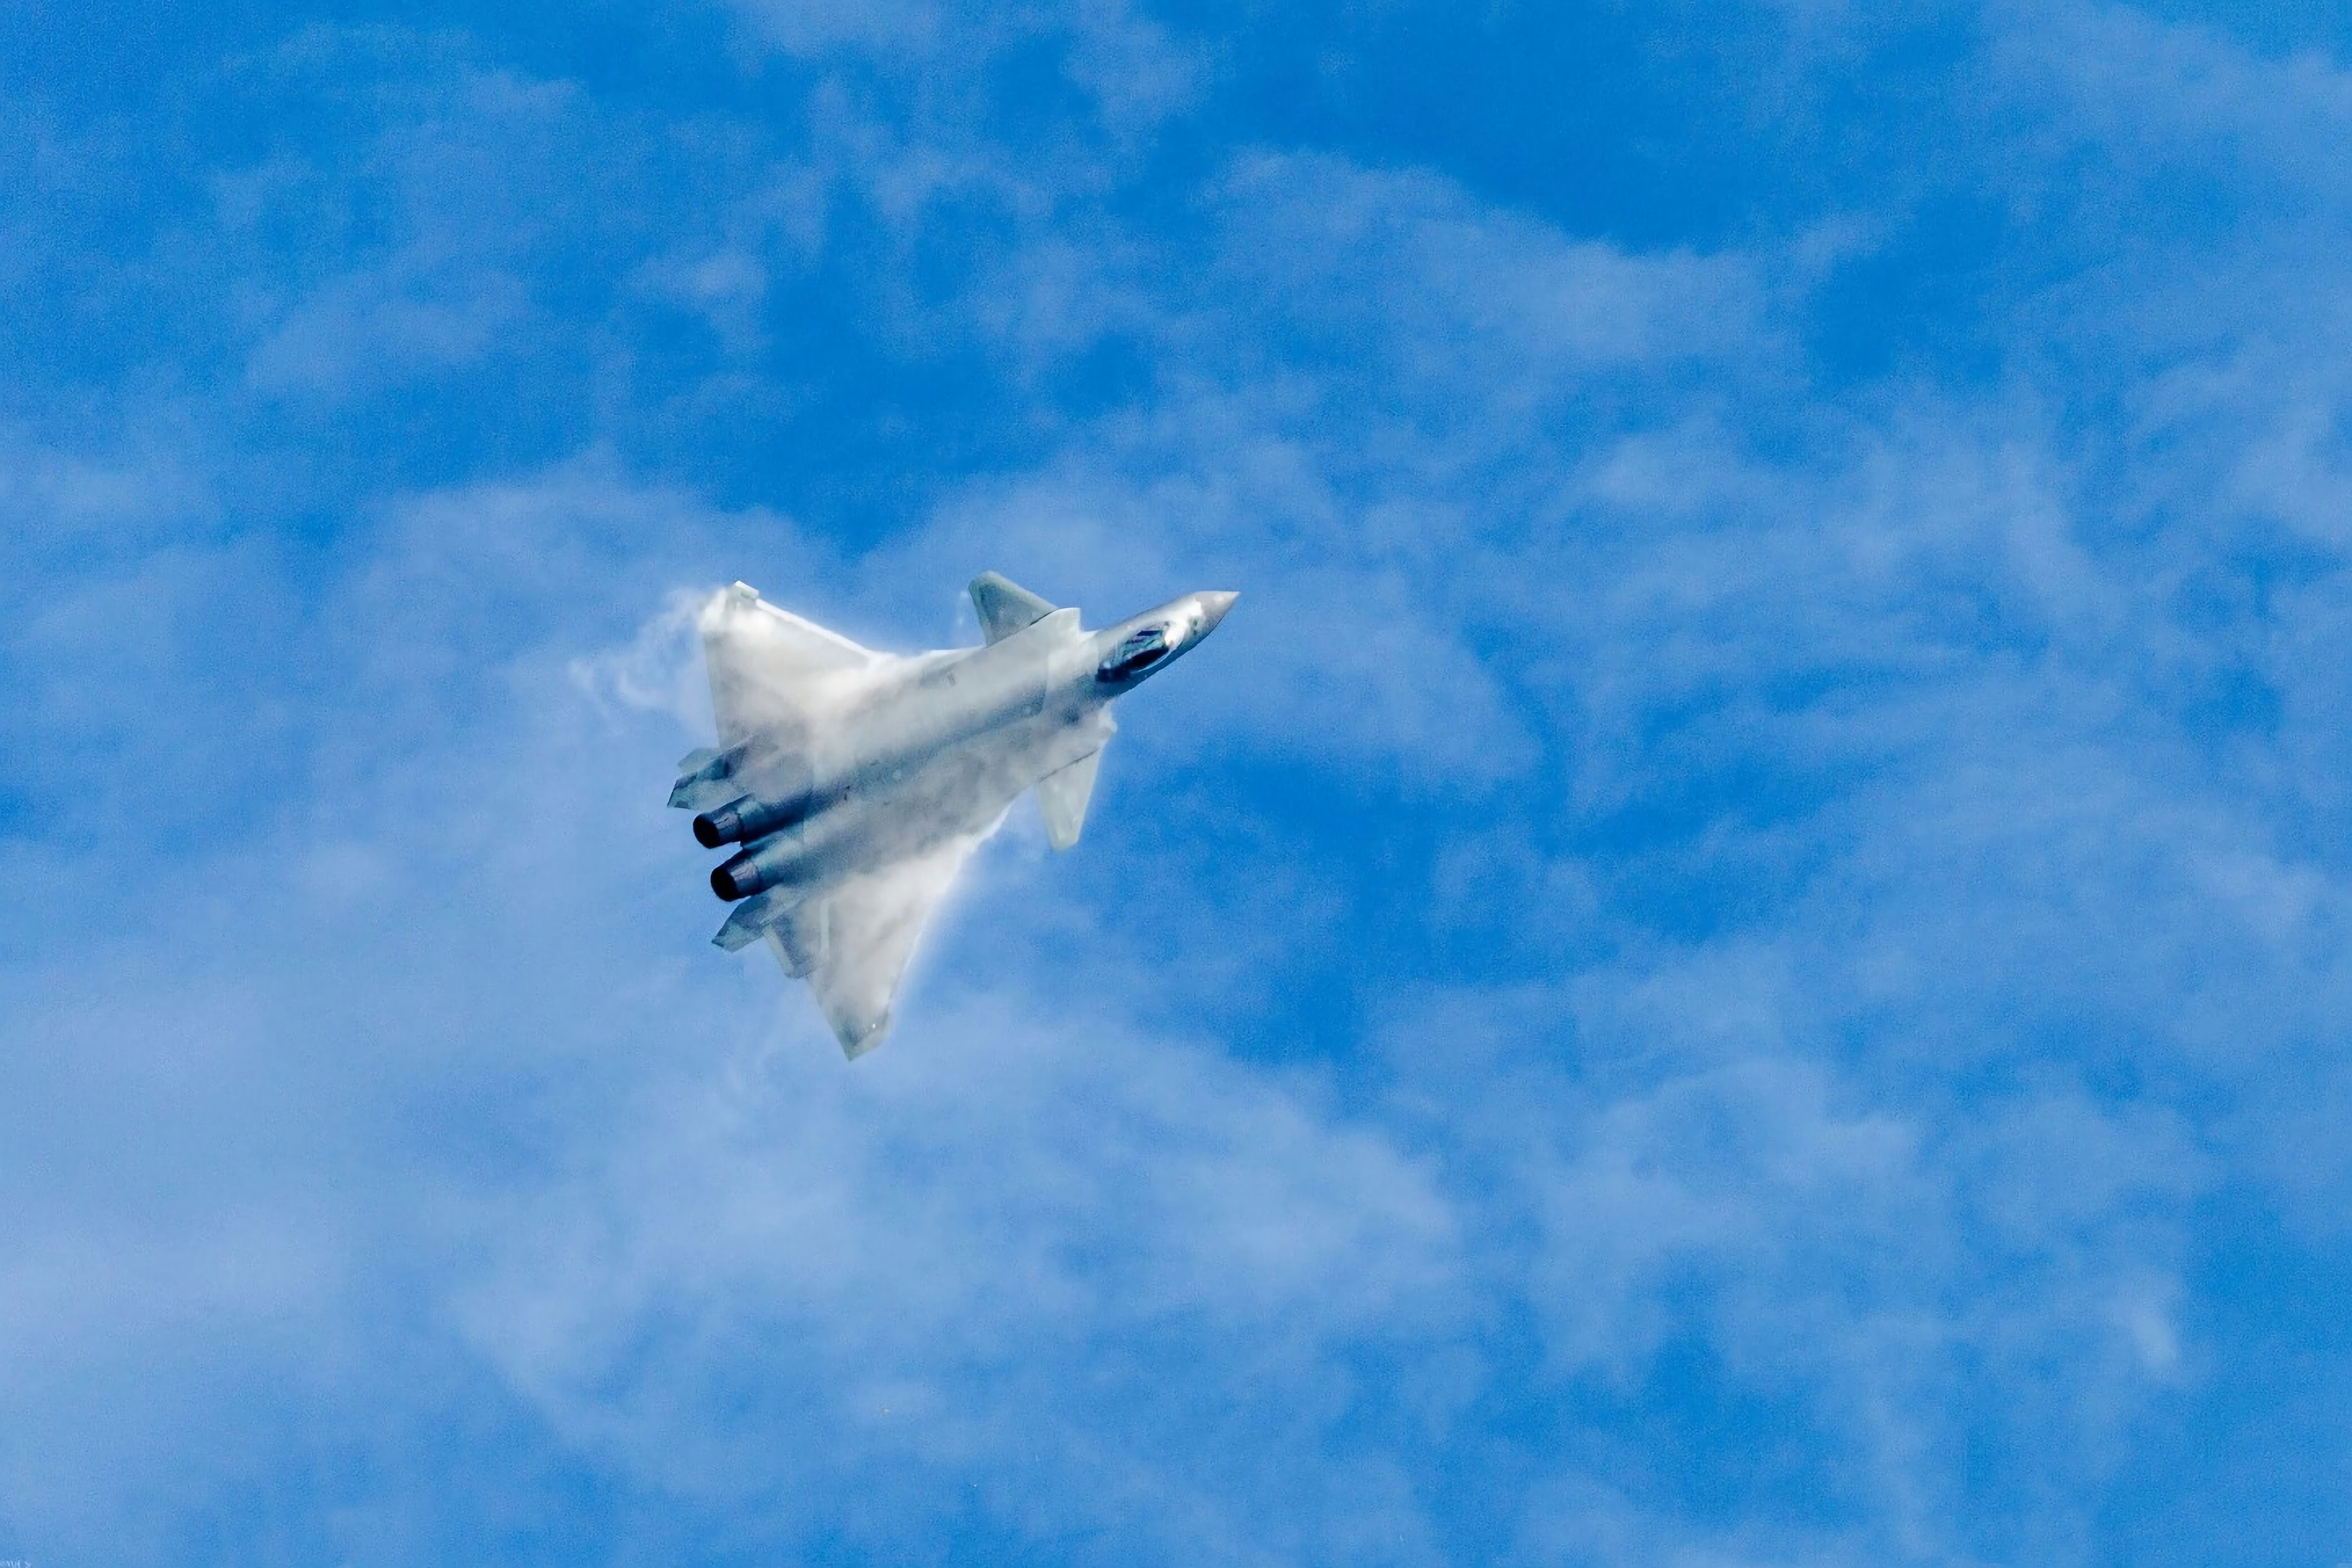J20: (667, 570, 1241, 1062)
